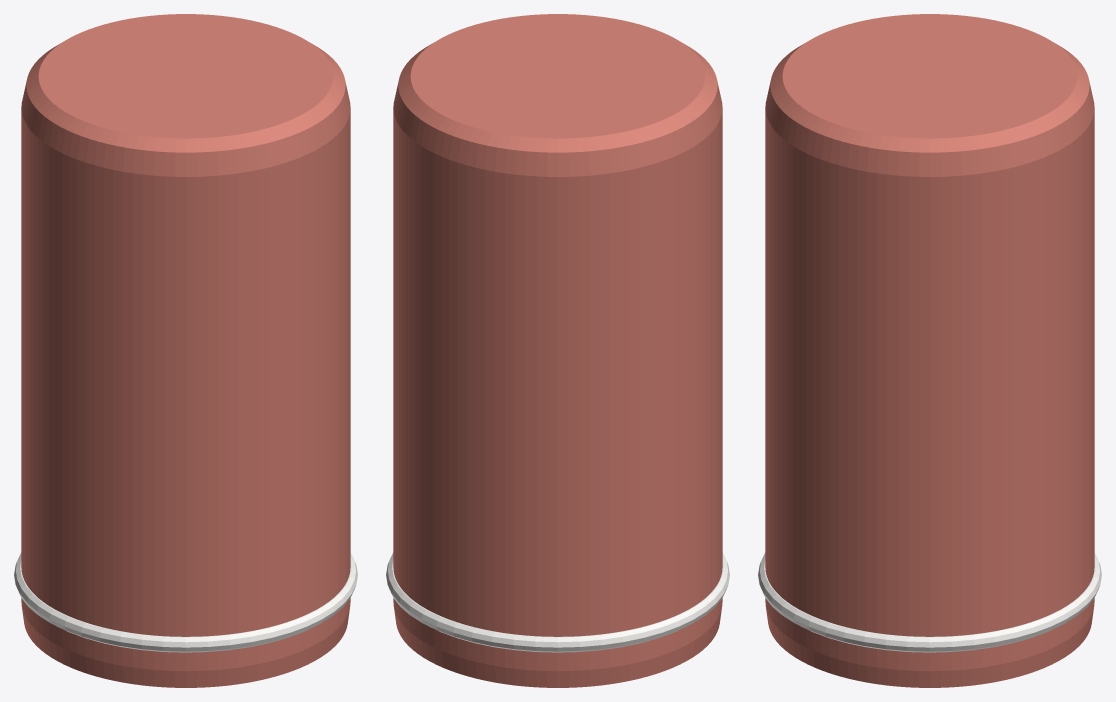
Rendered from can_red.glb.
The picture shows the model from 3 angles, left to right: view 1: azimuth 30°, elevation 25°; view 2: azimuth 150°, elevation 25°; view 3: azimuth 270°, elevation 25°; orthographic projection.
Visible parts, largest first — view 1: MetalCan, CanAccent; view 2: MetalCan, CanAccent; view 3: MetalCan, CanAccent.
Boxes of the visible parts, x1=… form: MetalCan: x1=21, y1=14, x2=350, y2=687; CanAccent: x1=14, y1=552, x2=357, y2=652; MetalCan: x1=393, y1=14, x2=722, y2=687; CanAccent: x1=386, y1=552, x2=729, y2=652; MetalCan: x1=765, y1=14, x2=1094, y2=687; CanAccent: x1=758, y1=552, x2=1101, y2=652.
Bounding box in the file's own units: 0.07 × 0.122 × 0.07.
